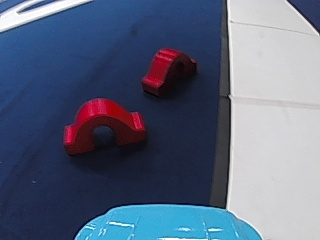bridge: (59, 92, 143, 156), (140, 46, 196, 97)
